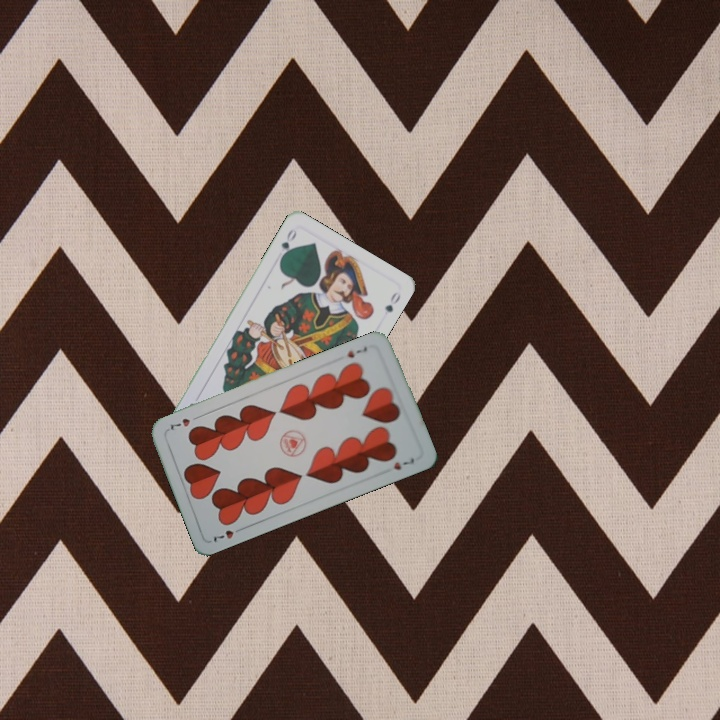GO: (276, 225, 299, 263)
H7: (209, 523, 246, 545), (343, 343, 370, 360)
